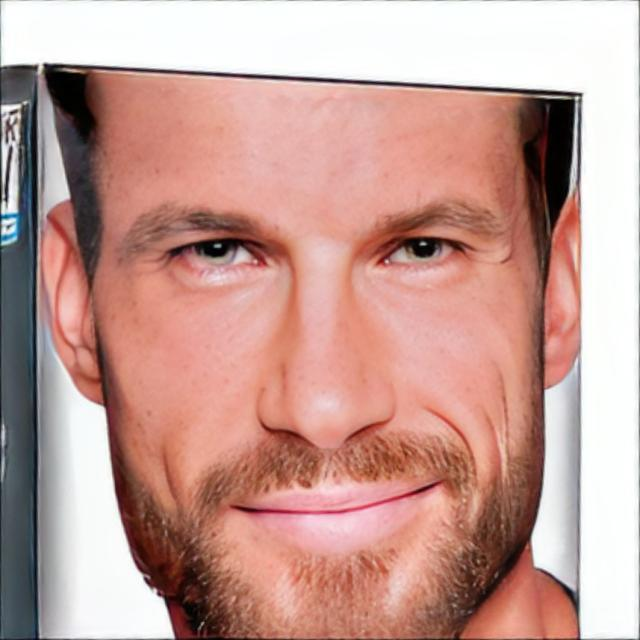content: (80, 75, 546, 631)
